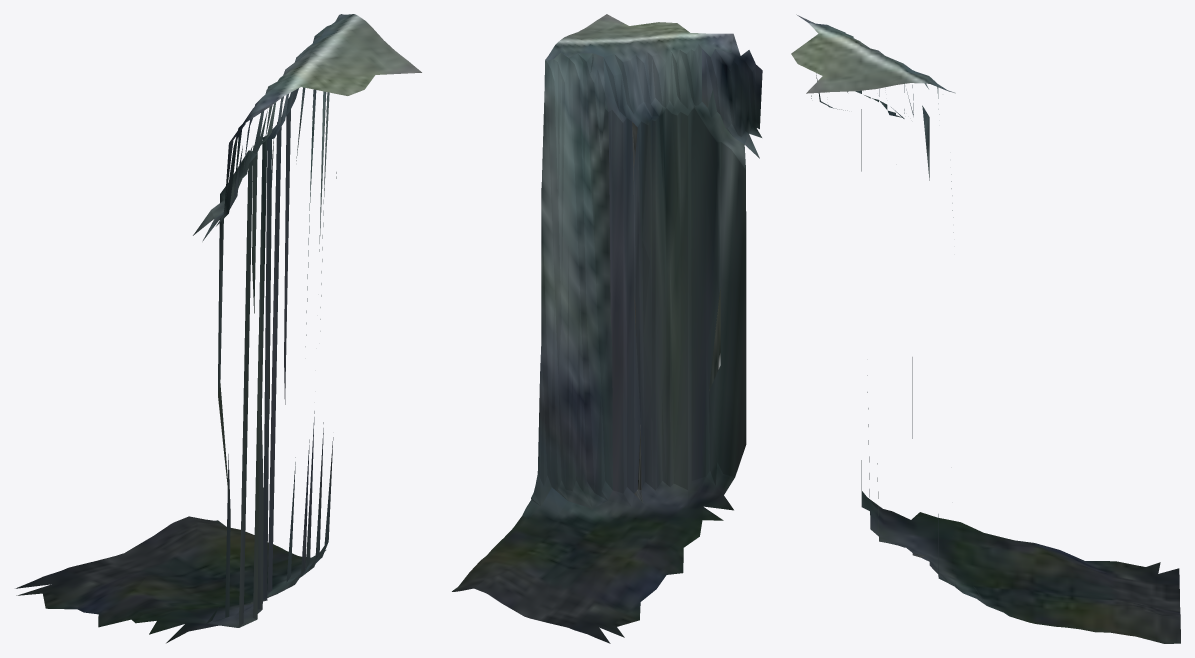
File: Tile_002_000_L14_444.glb
3 renders of one model, left to right at view 1: azimuth 30°, elevation 25°; view 2: azimuth 150°, elevation 25°; view 3: azimuth 270°, elevation 25°, orthographic. The views are drawn at different scales.
Visible parts, largest first — view 1: rtc; view 2: rtc; view 3: rtc.
Boxes of the visible parts, x1,y1,x2,y2 form: rtc: (15, 14, 421, 643); rtc: (452, 14, 762, 643); rtc: (791, 14, 1180, 643).
Bounding box in the file's own units: 13.73 × 38.08 × 23.28.
1 material, 1 textured.
